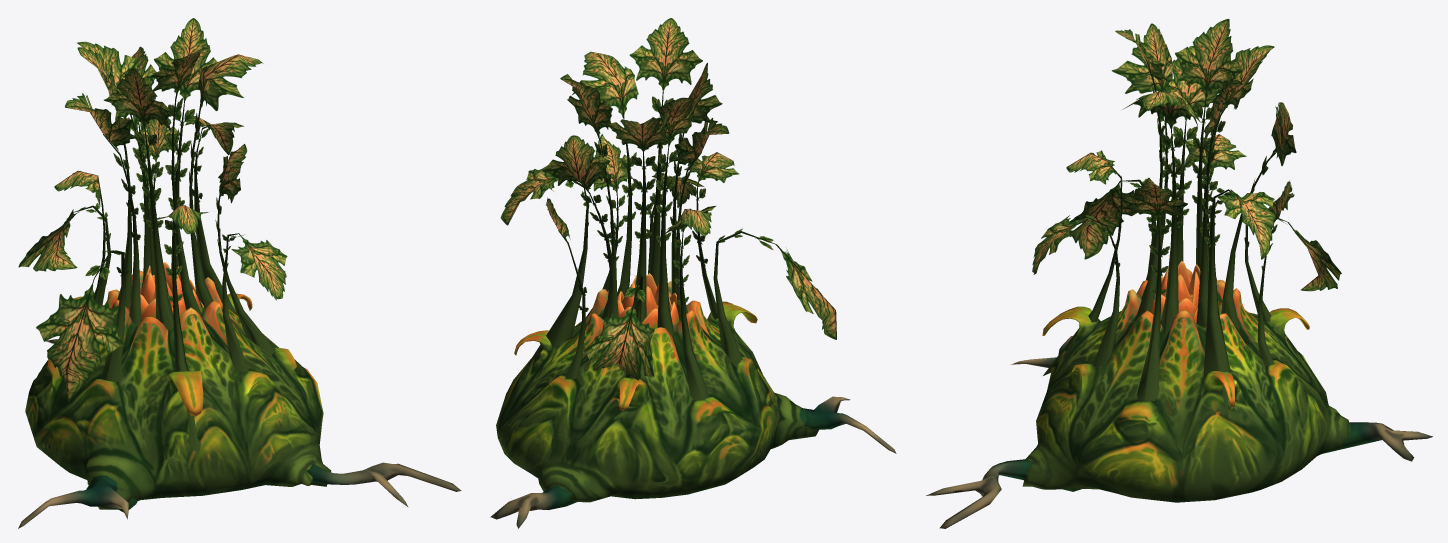
File: TrollsGrin_4_1.glb
The picture shows the model from 3 angles, left to right: view 1: azimuth 30°, elevation 25°; view 2: azimuth 150°, elevation 25°; view 3: azimuth 270°, elevation 25°; orthographic projection. The views are drawn at different scales.
Parts seen in each view (by area): view 1: 400; view 2: 400; view 3: 400.
Part boxes in pixels (x1,y1,x2,y2): 400: [18, 18, 461, 528]; 400: [490, 18, 896, 528]; 400: [926, 19, 1432, 528].
Bounding box in the file's own units: 0.1691 × 0.1828 × 0.1983.
Materials: 1 (1 with a texture image).
